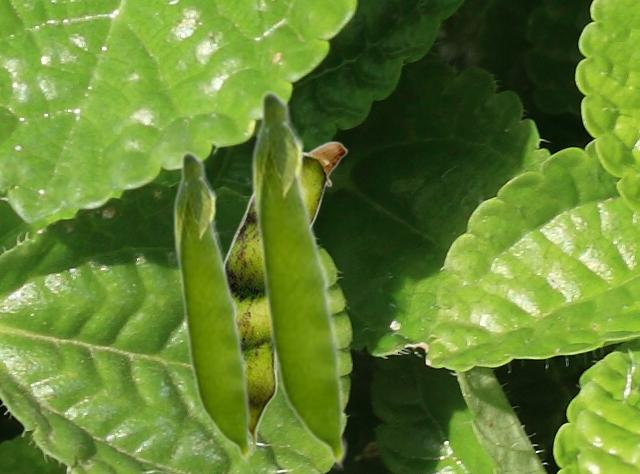pea: (225, 140, 347, 455), (250, 88, 348, 469), (172, 149, 253, 464)
